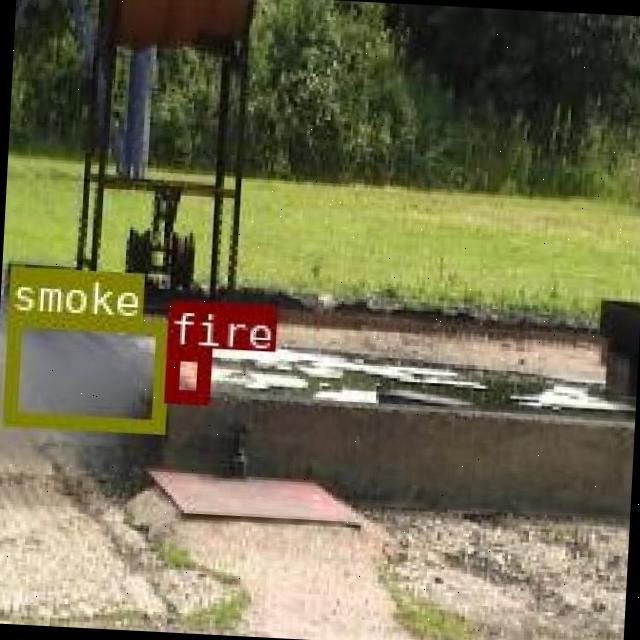fire: (162, 345, 208, 402)
smoke: (0, 310, 166, 430)
